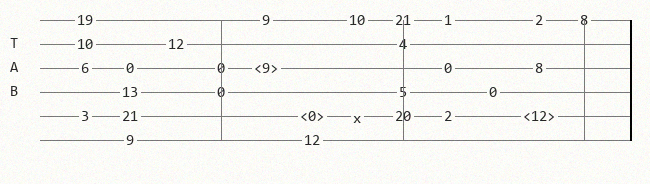0: (126, 61, 138, 75), (217, 85, 229, 99), (217, 61, 229, 75), (444, 61, 456, 75), (489, 85, 501, 99)
1: (444, 13, 456, 27)
10: (77, 37, 97, 51), (349, 13, 369, 27)
12: (168, 37, 188, 51), (304, 133, 324, 147)
13: (122, 85, 142, 99)
19: (77, 13, 97, 27)
2: (444, 109, 456, 123), (535, 13, 547, 27)
20: (395, 109, 415, 123)
21: (122, 109, 142, 123), (395, 13, 415, 27)
3: (81, 109, 93, 123)
4: (399, 37, 411, 51)
5: (399, 85, 411, 99)
6: (81, 61, 93, 75)
8: (535, 61, 547, 75), (580, 13, 592, 27)
9: (126, 133, 138, 147), (262, 13, 274, 27)
harmonic: (523, 109, 559, 123), (254, 61, 282, 75), (300, 109, 328, 123)
x: (353, 111, 365, 122)
